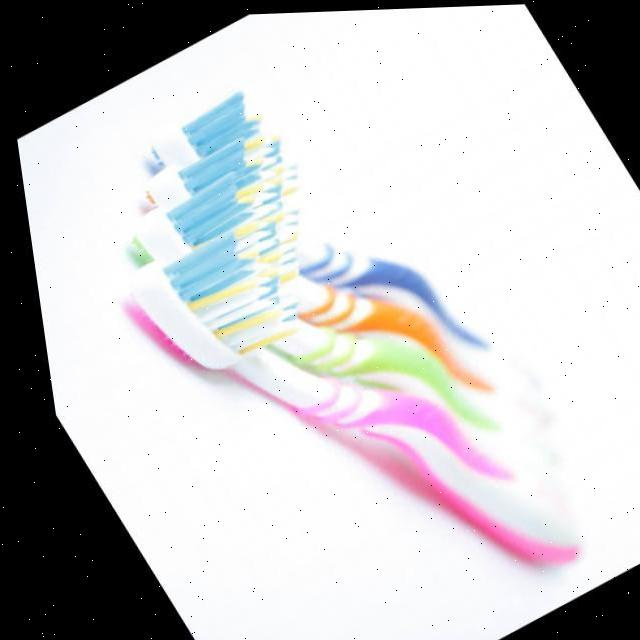toothbrush: (117, 225, 565, 558), (131, 171, 554, 465), (140, 138, 539, 428), (149, 86, 512, 368)
